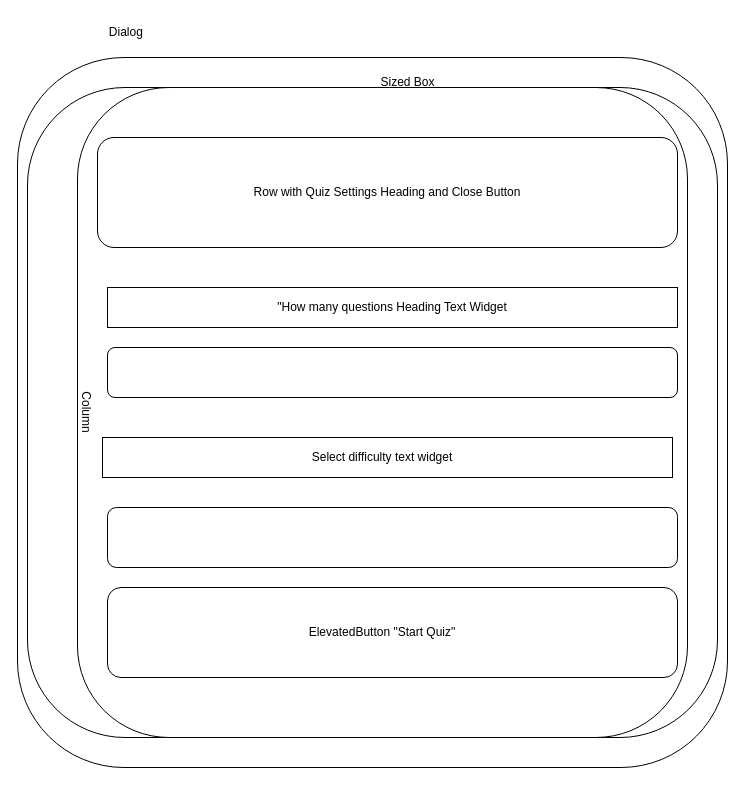
This 745x785 diagram has some shape labels left out. Here are the shapes that lost their labels. From the top down, the centre of each, then its label:
At pixel 392 372: "Row with minus button , number box and plus button".
At pixel 392 537: "Dropdown Button Form Field".
